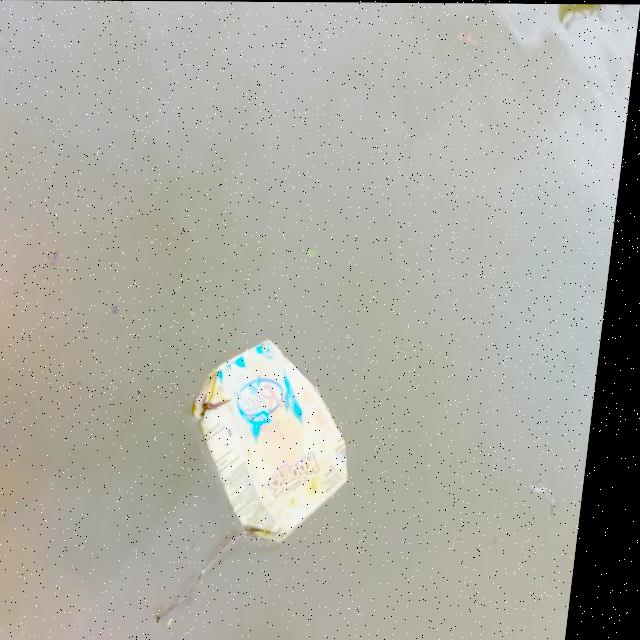paper: (177, 319, 385, 542)
